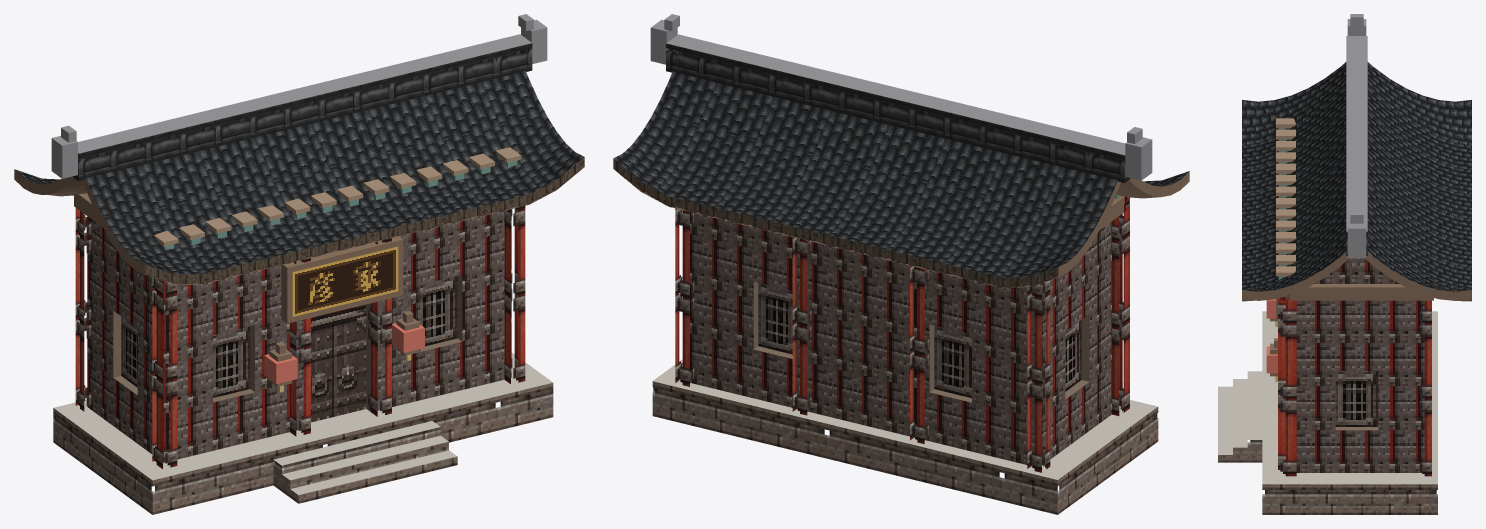
Rendered from g_eon_clay.glb.
The picture shows the model from 3 angles, left to right: view 1: azimuth 30°, elevation 25°; view 2: azimuth 150°, elevation 25°; view 3: azimuth 270°, elevation 25°; orthographic projection. The views are drawn at different scales.
Parts seen in each view (by area): view 1: roof, plaster, stone, post, stonetop, ridge, ridgeend, door, win, wood, plaque, eave (+5 smaller); view 2: plaster, roof, stone, post, ridge, ridgeend, win, stonetop, eave, reveal, wood, under; view 3: roof, plaster, stonetop, stone, ridgeend, post, wood, woodl, win, lantern.
Boxes of the visible parts, box(x1,y1,x2,y2) form: roof: box(15, 71, 584, 274); plaster: box(87, 209, 511, 462); stone: box(53, 383, 553, 514); post: box(75, 206, 525, 468); stonetop: box(53, 352, 552, 495); ridge: box(72, 43, 532, 180); ridgeend: box(51, 14, 547, 178); door: box(311, 304, 366, 422); win: box(121, 276, 457, 397); wood: box(14, 166, 584, 386); plaque: box(292, 246, 398, 316); eave: box(144, 157, 584, 284); plaster: box(690, 212, 1111, 466); roof: box(613, 71, 1189, 277); stone: box(652, 381, 1158, 514); post: box(675, 197, 1129, 472); ridge: box(666, 43, 1130, 182); ridgeend: box(650, 14, 1152, 180); win: box(758, 283, 1081, 398); stonetop: box(653, 359, 1157, 479); eave: box(613, 159, 1058, 287); reveal: box(753, 281, 1089, 402); wood: box(1058, 171, 1189, 277); under: box(614, 169, 1160, 288); roof: box(1242, 62, 1471, 291); plaster: box(1296, 258, 1424, 472); stonetop: box(1218, 311, 1437, 484); stone: box(1218, 440, 1437, 514); ridgeend: box(1346, 14, 1367, 257); post: box(1278, 298, 1431, 476); wood: box(1242, 252, 1471, 376); woodl: box(1276, 118, 1295, 276); win: box(1335, 371, 1378, 426); lantern: box(1266, 299, 1277, 373).
Bounding box in the file's own units: 73.6 × 51.3 × 37.7.
19 materials, 10 textured.
